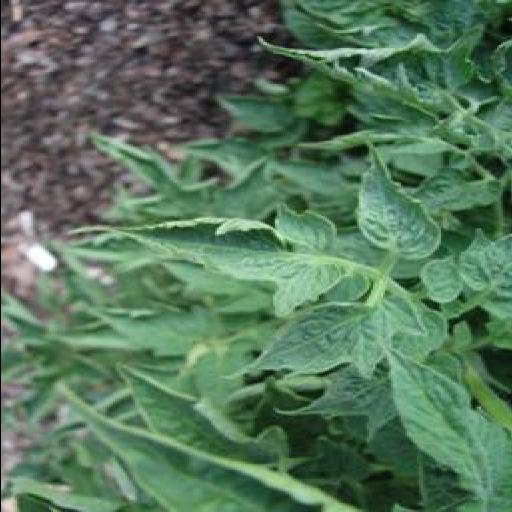disease_tomato: (94, 209, 356, 308), (386, 348, 508, 502), (226, 290, 398, 390), (348, 141, 446, 261), (424, 254, 462, 305)
